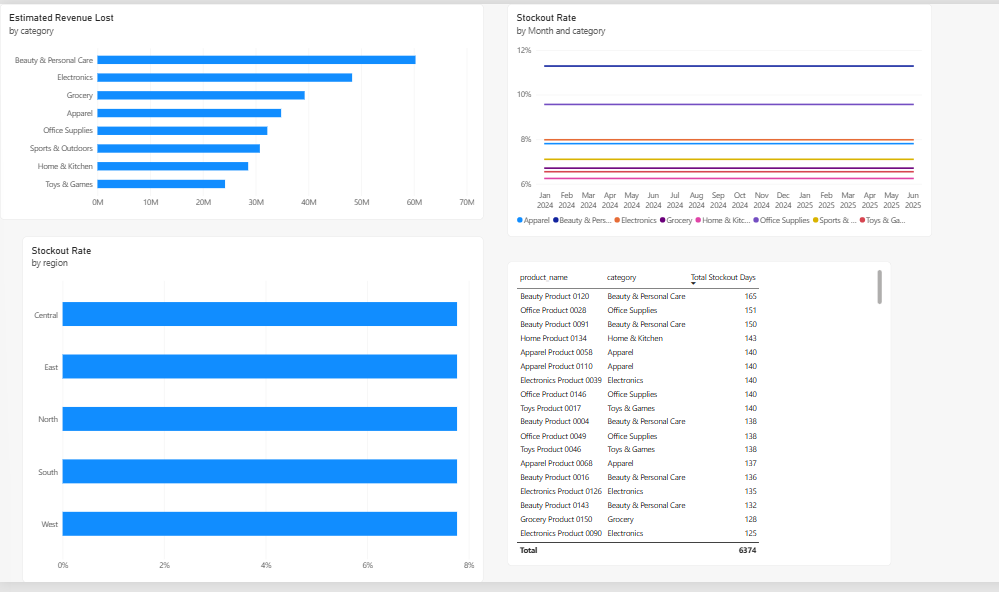

The page's visual inventory and layout, read from the dashboard file:
{"tool":"powerbi","page":{"name":"Stockout Intelligence","canvas":[1920,1080],"ordinal":1},"visuals":[{"type":"clusteredBarChart","fields":{"Category":["products.category"],"Y":["sales.Estimated Revenue Lost"]},"box":[0,0,440,343.3],"z":0},{"type":"lineChart","fields":{"Category":["DateTable.Month"],"Series":["products.category"],"Y":["inventory.Stockout Rate"]},"box":[448.9,0,453.3,343.3],"z":1000},{"type":"clusteredBarChart","fields":{"Category":["sales.region"],"Y":["inventory.Stockout Rate"]},"box":[0,353,440,343],"z":2000},{"type":"tableEx","fields":{"Values":["products.product_name","products.category","inventory.Total Stockout Days"]},"box":[448.8,353.8,440,343],"z":3000}]}

Visuals, with their boxes on the page's 1920x1080 design canvas (x1, y1, x2, y2). These are canvas units, not pixel positions in the 999x592 screenshot, which may show the page scaled, cropped or inside an application window:
clusteredBarChart - products.category x sales.Estimated Revenue Lost: 0,0,440,343
lineChart - DateTable.Month x products.category: 449,0,902,343
clusteredBarChart - sales.region x inventory.Stockout Rate: 0,353,440,696
tableEx - products.product_name x products.category: 449,354,889,697
